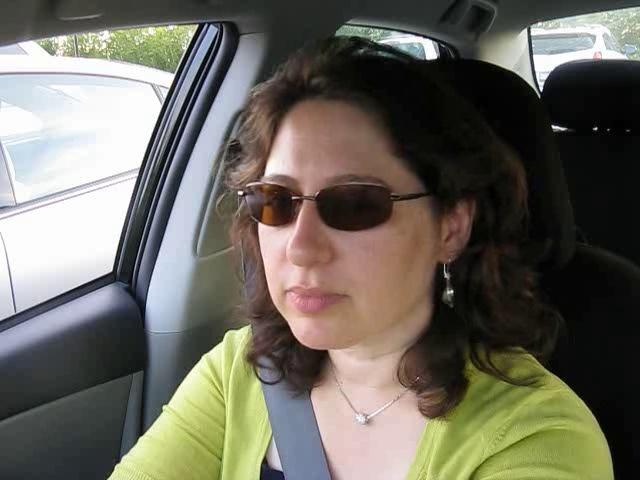no_yawn: (272, 276, 358, 319)
